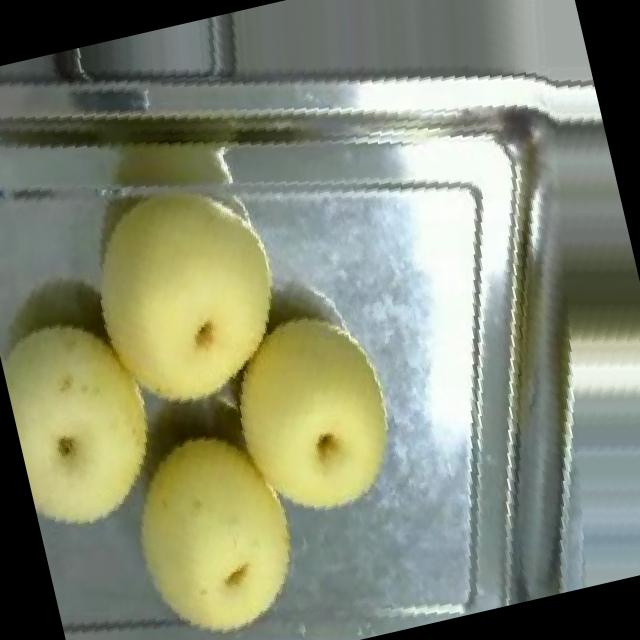Fruit: (41, 143, 328, 443), (188, 272, 438, 554), (94, 399, 338, 640), (0, 274, 198, 556)
